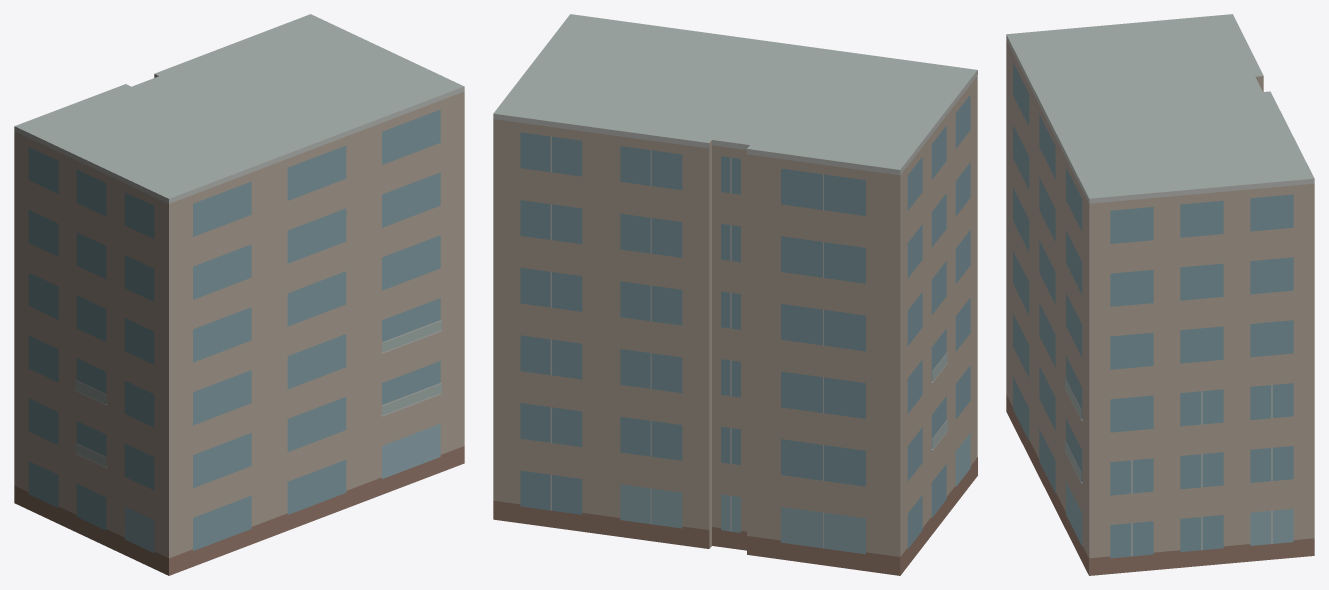
Rendered from survey-upis-32708915.glb.
The picture shows the model from 3 angles, left to right: view 1: azimuth 30°, elevation 25°; view 2: azimuth 150°, elevation 25°; view 3: azimuth 270°, elevation 25°; orthographic projection. The views are drawn at different scales.
Parts seen in each view (by area): view 1: survey-upis-32708915.tmp; view 2: survey-upis-32708915.tmp; view 3: survey-upis-32708915.tmp.
Boxes of the visible parts, box(x1,y1,x2,y2) form: survey-upis-32708915.tmp: box(14, 14, 464, 575); survey-upis-32708915.tmp: box(493, 14, 977, 575); survey-upis-32708915.tmp: box(1006, 14, 1314, 575).
Size of the model in its own units: 19.23 by 18.3 by 13.57.
